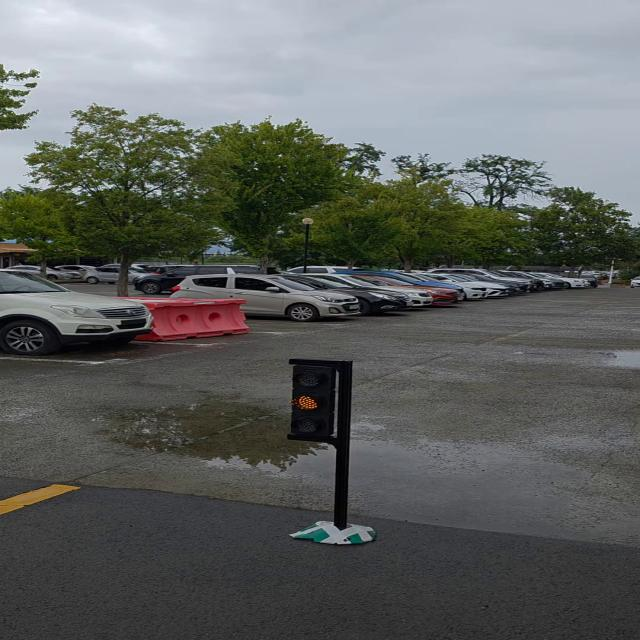yellow: (295, 358, 345, 440)
